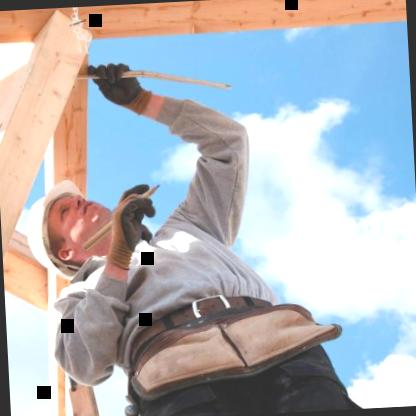helmet: (21, 176, 128, 283)
